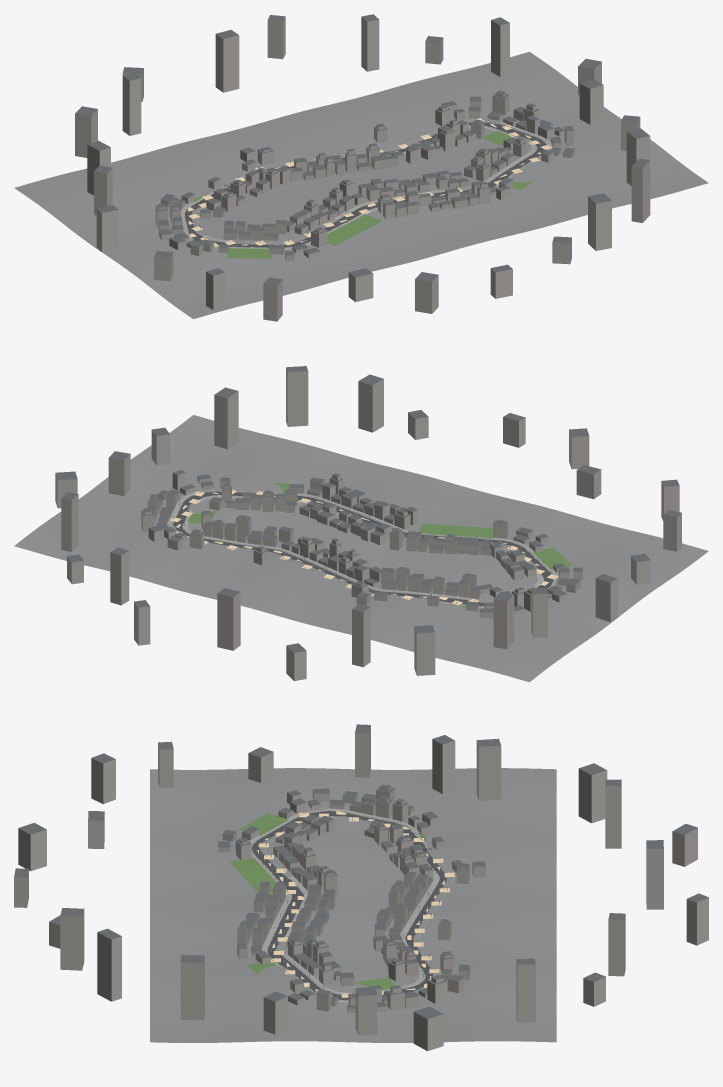
File: riverside_sprint.glb
3 renders of one model, top to bottom at view 1: azimuth 30°, elevation 25°; view 2: azimuth 150°, elevation 25°; view 3: azimuth 270°, elevation 25°, orthographic. The views are drawn at different scales.
Visible parts, largest first — view 1: riverside_sprint - City; view 2: riverside_sprint - City; view 3: riverside_sprint - City.
Boxes of the visible parts, x1,y1,x2,y2 form: riverside_sprint - City: (14,14,708,321); riverside_sprint - City: (14,366,708,682); riverside_sprint - City: (14,724,708,1051).
Size of the model in its own units: 1505 by 562 by 1505.
